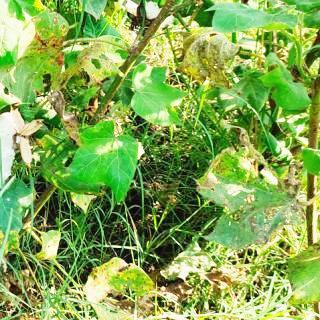blight: (11, 7, 105, 102), (80, 254, 156, 320)
leaf spot: (186, 129, 307, 254), (169, 25, 248, 92)
